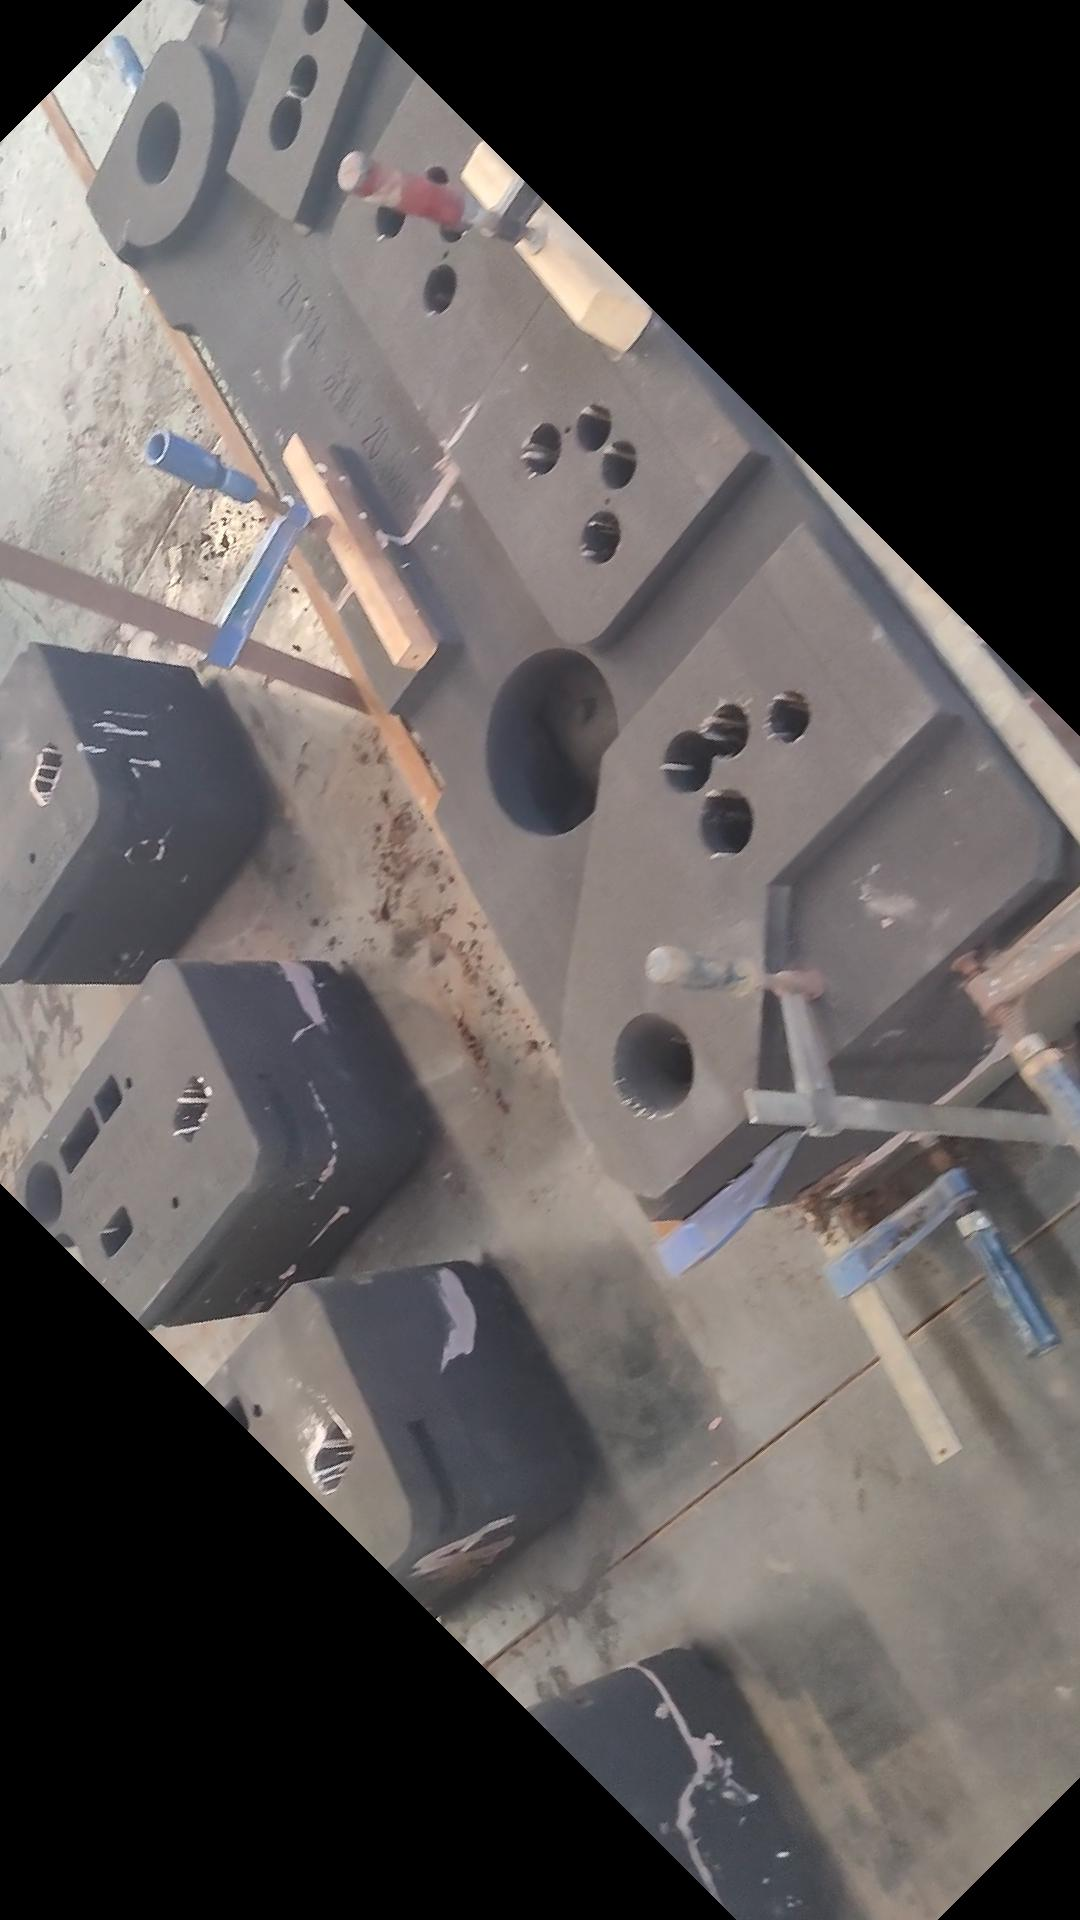pouring hole: (612, 1013, 694, 1121), (137, 102, 182, 187), (15, 1162, 65, 1228)
